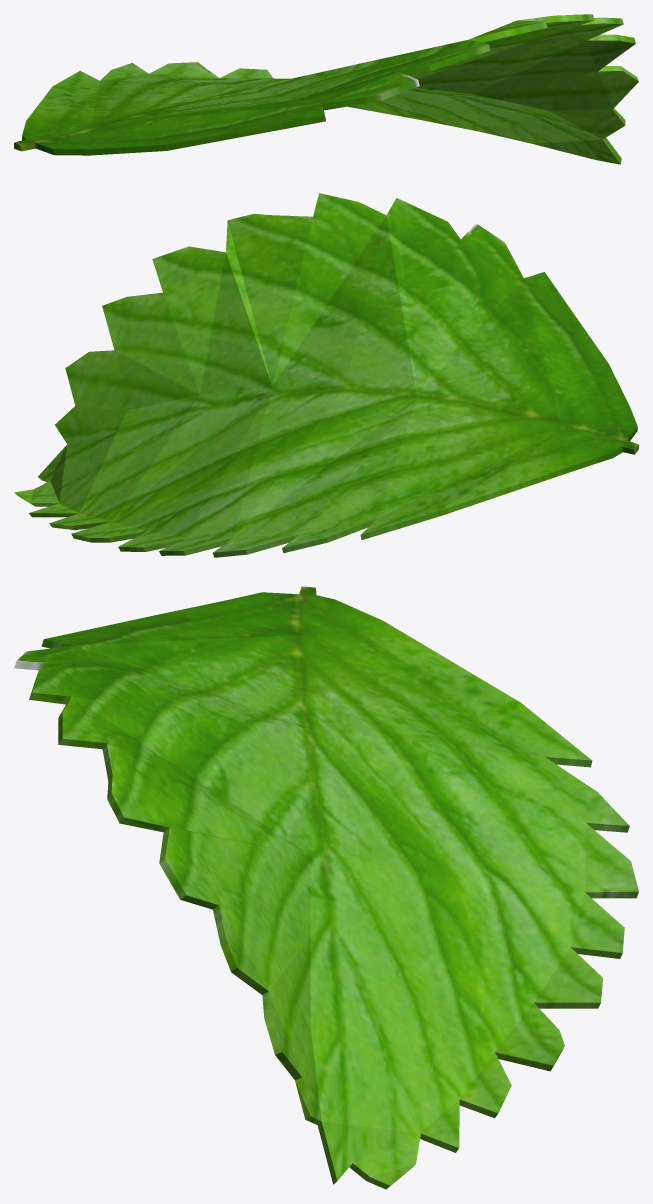
File: leaf5.dae
3 renders of one model, top to bottom at view 1: azimuth 30°, elevation 25°; view 2: azimuth 150°, elevation 25°; view 3: azimuth 270°, elevation 25°, orthographic. The views are drawn at different scales.
Visible parts, largest first — view 1: Plane; view 2: Plane; view 3: Plane.
Boxes of the visible parts, <box> form: Plane: <box>14,14,638,164</box>; Plane: <box>14,193,638,557</box>; Plane: <box>14,586,638,1189</box>.
Bounding box in the file's own units: 0.1375 × 0.0957 × 0.0575.
1 material, 1 textured.
